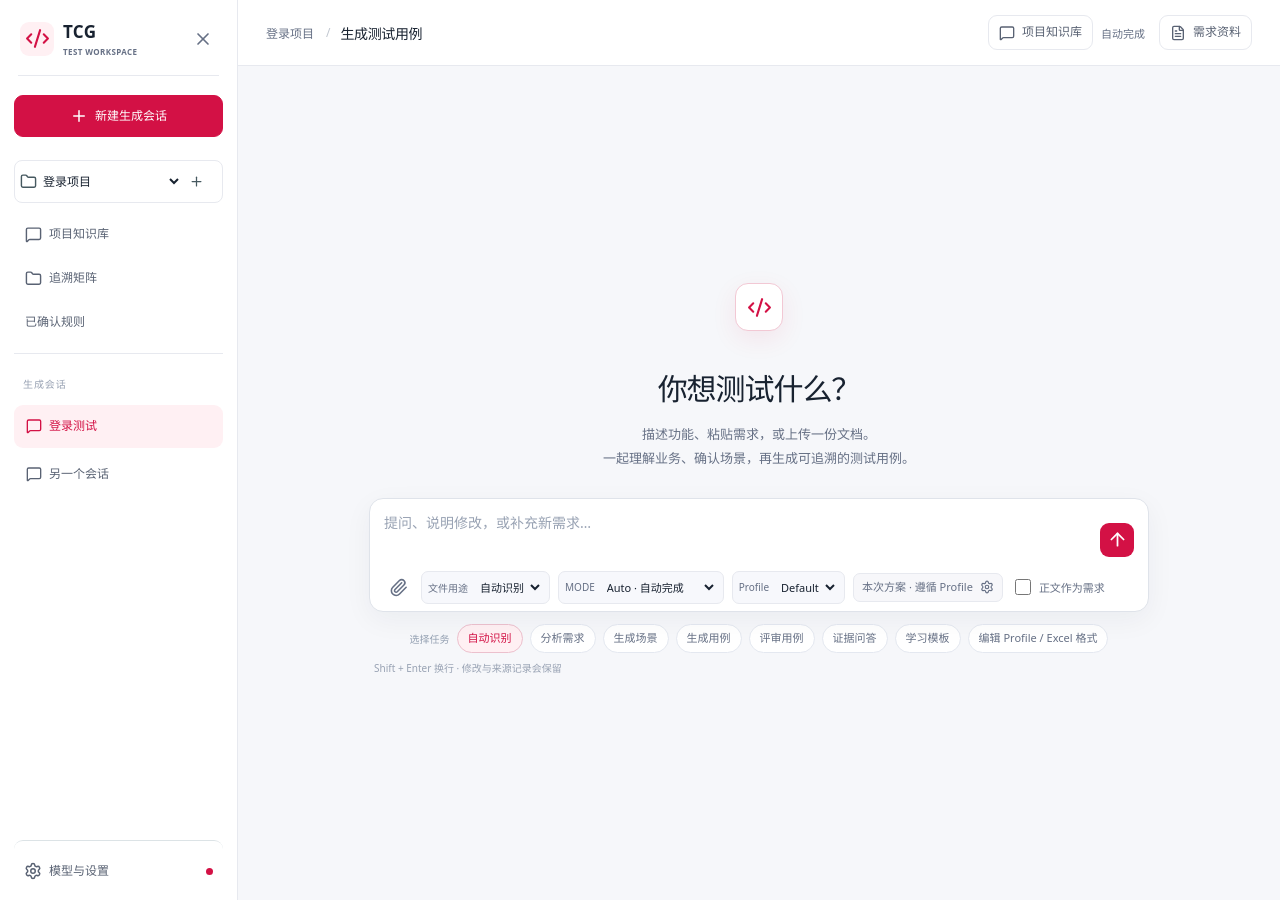
a failed model response refreshes the saved assistant receipt after its user and keeps the draft
The image size is (1280, 900).
Type "生成登录测试用例" into the text box named "聊天输入" at coordinates (737, 535), box top-left (384, 511), bottom-right (1090, 559)
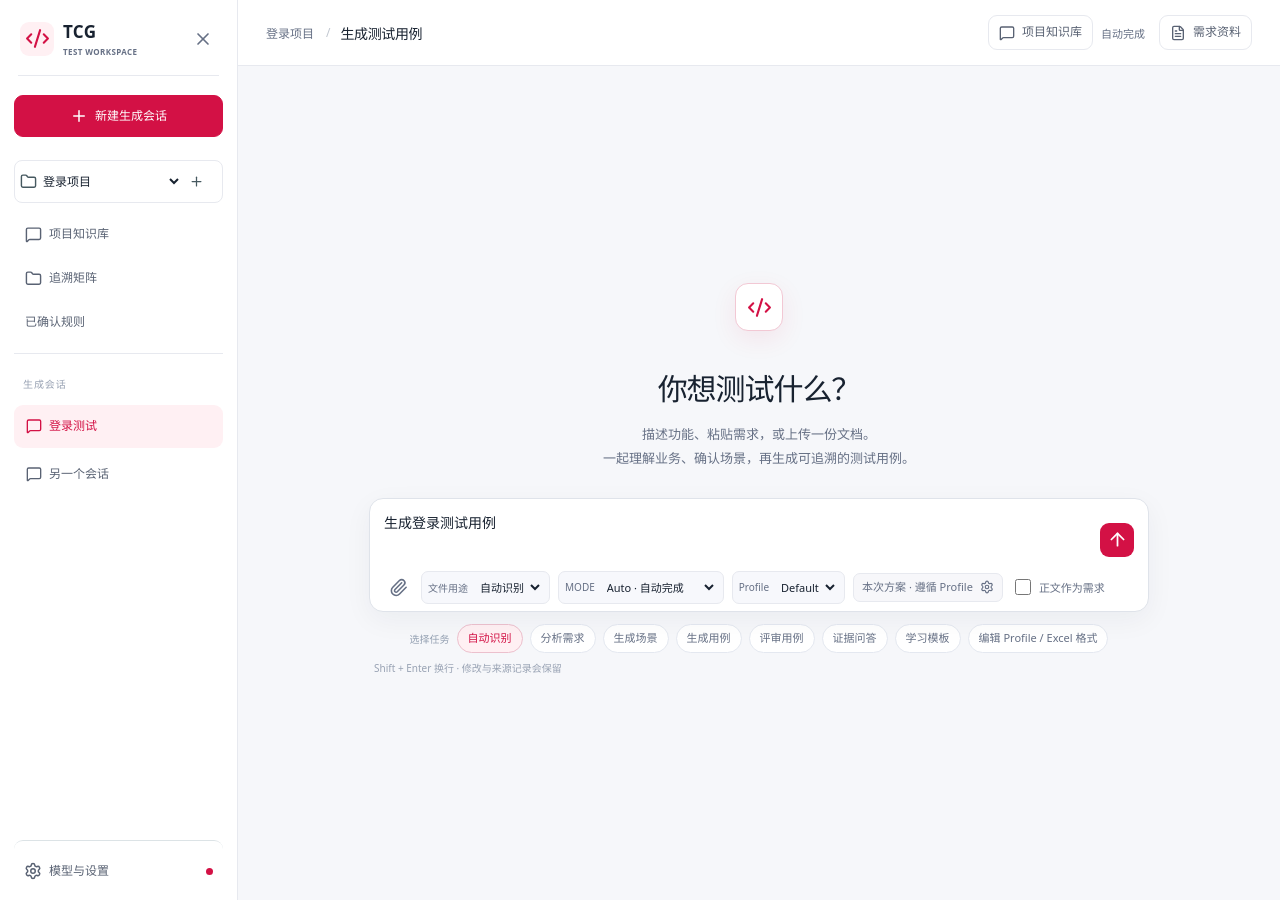
Click the button named "发送消息" at coordinates (1117, 540), box top-left (1100, 523), bottom-right (1134, 557)
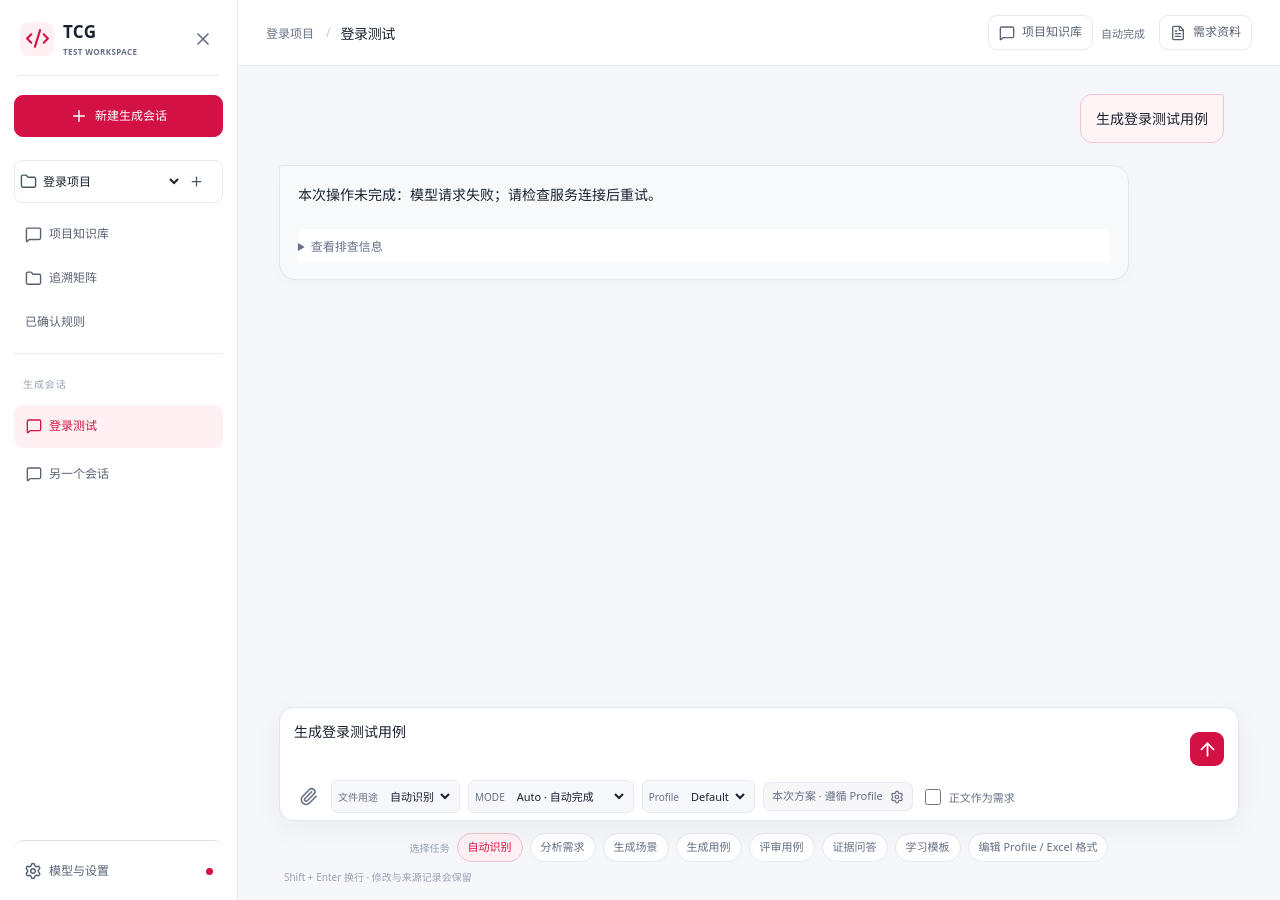
Check: the text "生成登录测试用例" is shown, box top-left (1096, 106), bottom-right (1208, 131)
Check: the element with class "message" that starts with "本次操作未完成：模型请求失败；请检查服务连接后重试。" is shown, box top-left (279, 165), bottom-right (1224, 280)
